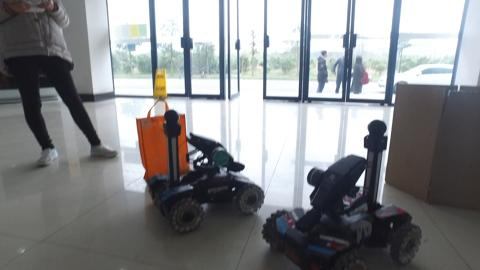box: (396, 82, 479, 211)
chariot: (262, 120, 423, 270), (148, 109, 263, 231)
